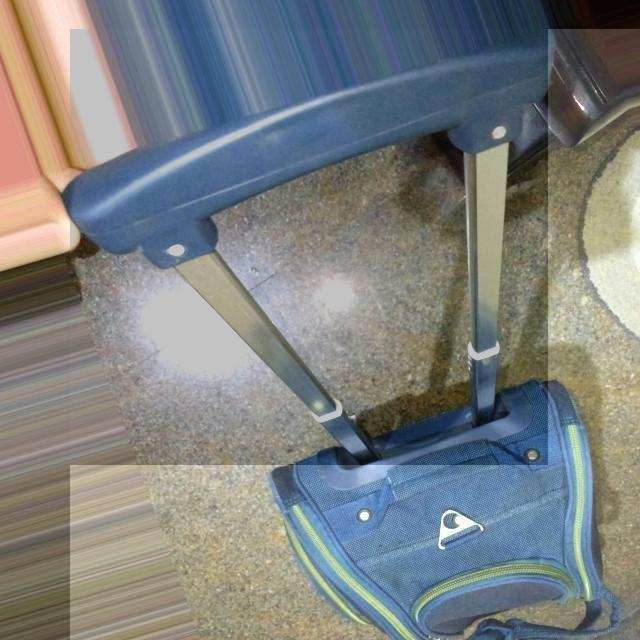Suitcase: (46, 27, 640, 640)
